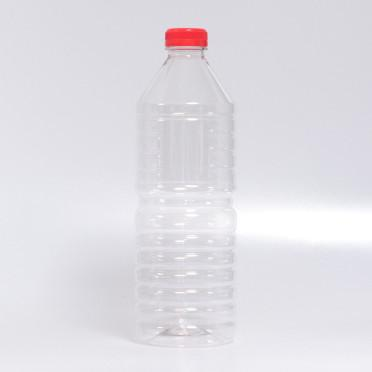pet: (115, 19, 265, 358)
